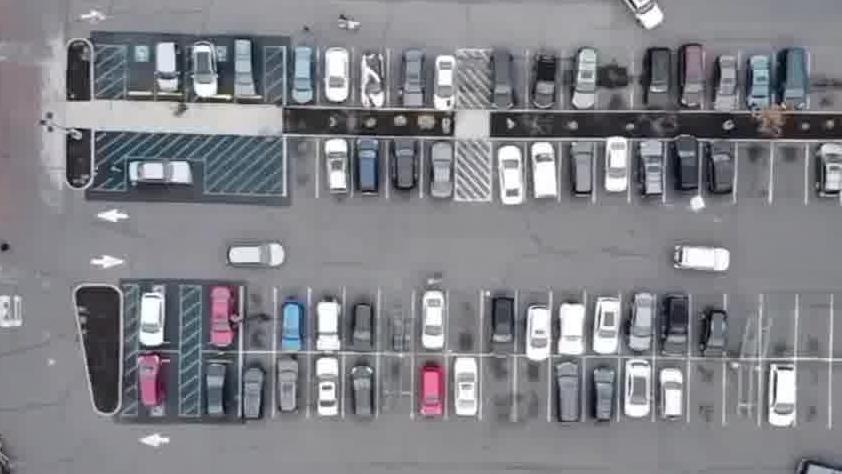car: (447, 357, 485, 424), (763, 364, 798, 434), (672, 239, 731, 279), (777, 44, 813, 109), (640, 50, 675, 115), (493, 140, 528, 205), (127, 157, 198, 189), (677, 46, 708, 115), (701, 140, 737, 199), (309, 358, 342, 422), (553, 362, 585, 428), (624, 362, 658, 424), (226, 237, 286, 272), (321, 137, 354, 200), (670, 140, 703, 203), (587, 367, 619, 430), (487, 291, 518, 356), (488, 50, 519, 114), (529, 145, 562, 205), (523, 307, 557, 365), (662, 295, 693, 358), (656, 365, 687, 428), (565, 141, 597, 202), (207, 283, 237, 348), (418, 283, 447, 348), (570, 49, 598, 116), (347, 362, 378, 422), (417, 362, 448, 422), (556, 301, 588, 359), (193, 43, 226, 99), (592, 298, 622, 359), (427, 142, 456, 204), (389, 139, 419, 198), (352, 137, 381, 198), (315, 299, 346, 356), (327, 48, 356, 108), (400, 48, 429, 108), (812, 142, 842, 200), (241, 363, 269, 425), (155, 40, 186, 96), (639, 143, 668, 202), (135, 354, 164, 413), (232, 42, 261, 100), (747, 52, 776, 110), (700, 306, 730, 362), (204, 360, 231, 422), (139, 290, 167, 349), (291, 46, 318, 107), (532, 55, 558, 118), (433, 54, 460, 114), (628, 293, 653, 357), (363, 52, 391, 109), (277, 357, 304, 416), (602, 135, 628, 196), (277, 300, 306, 353), (622, 0, 670, 32), (714, 53, 739, 114), (352, 303, 376, 356), (794, 456, 842, 474)
